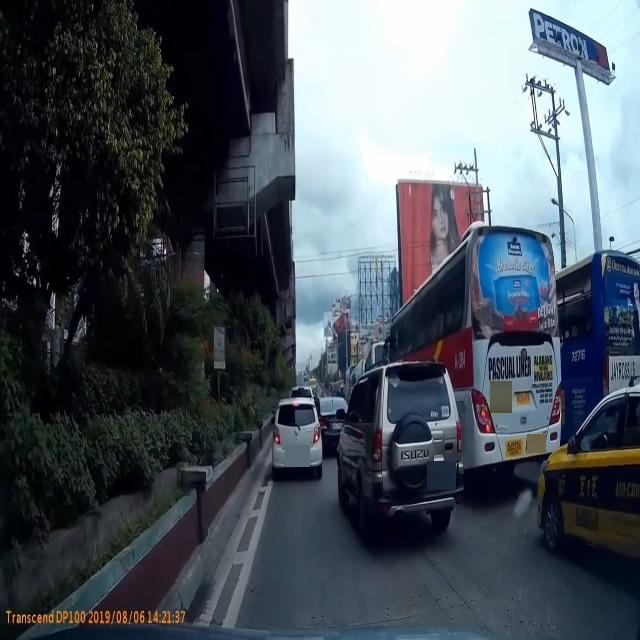bus: (382, 230, 566, 486), (551, 261, 640, 450)
car: (324, 364, 466, 551), (540, 387, 640, 567), (268, 387, 326, 482), (316, 392, 348, 444)
